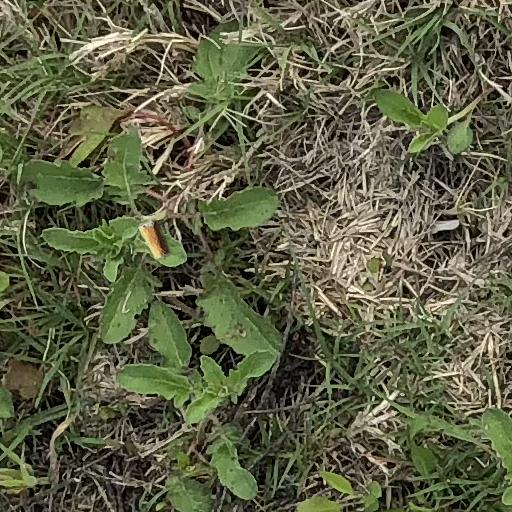smoke: (139, 221, 169, 257)
